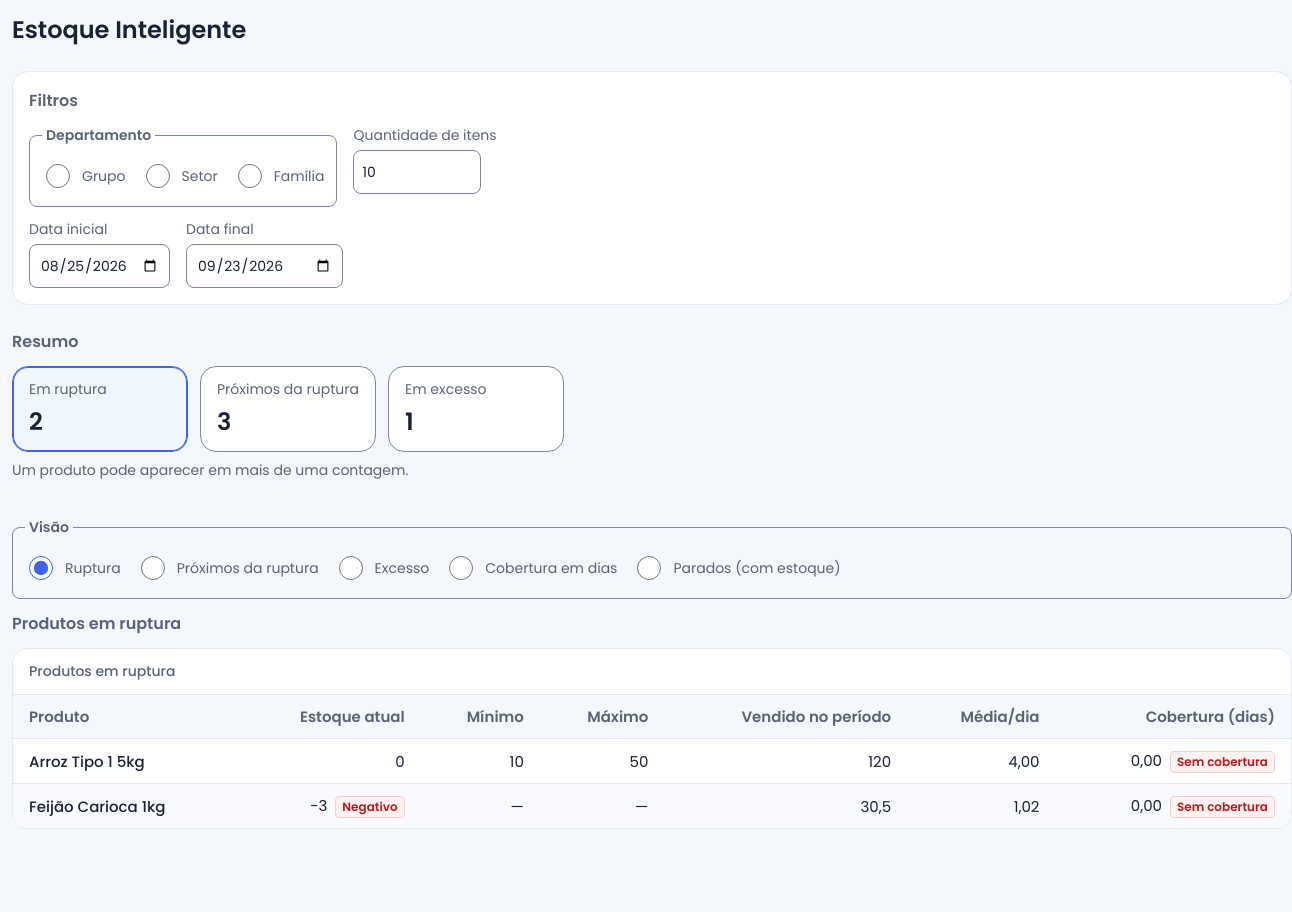
it: EstoquePage › erro ao carregar a lista de itens do departamento aparece junto ao seletor sem derrubar a tabela
Expected: the table is shown, [13,649,1291,828]
Click the radio button labelled "Setor". click: coordinates (158, 176)
box: [146,164,170,188]
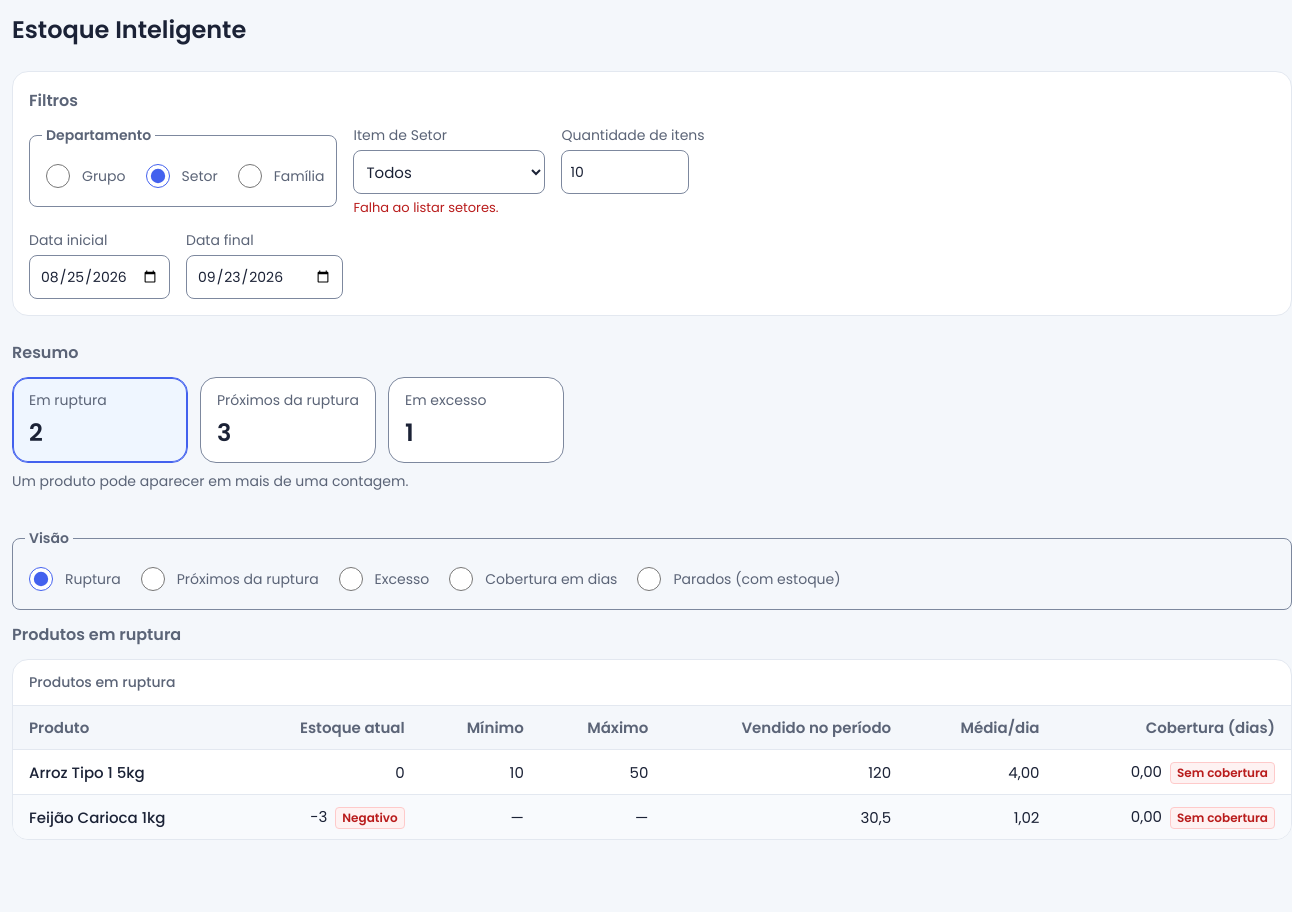
Expected: the column heading "Arroz Tipo 1 5kg" is shown, [13,750,238,794]
Now the message reads "Falha ao listar setores.", box [353,198,498,217]
Now the dropdown labelled "Item de Setor" is enabled, box [353,150,545,194]
